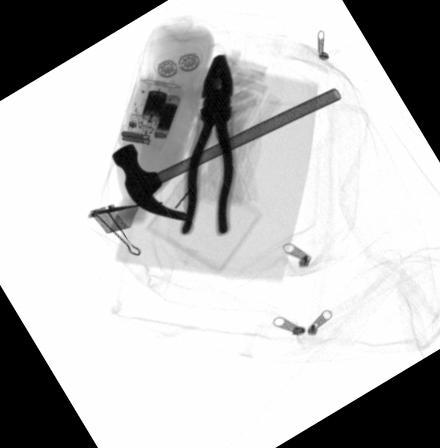Hammer: (110, 86, 340, 220)
Pliers: (180, 52, 234, 234)
